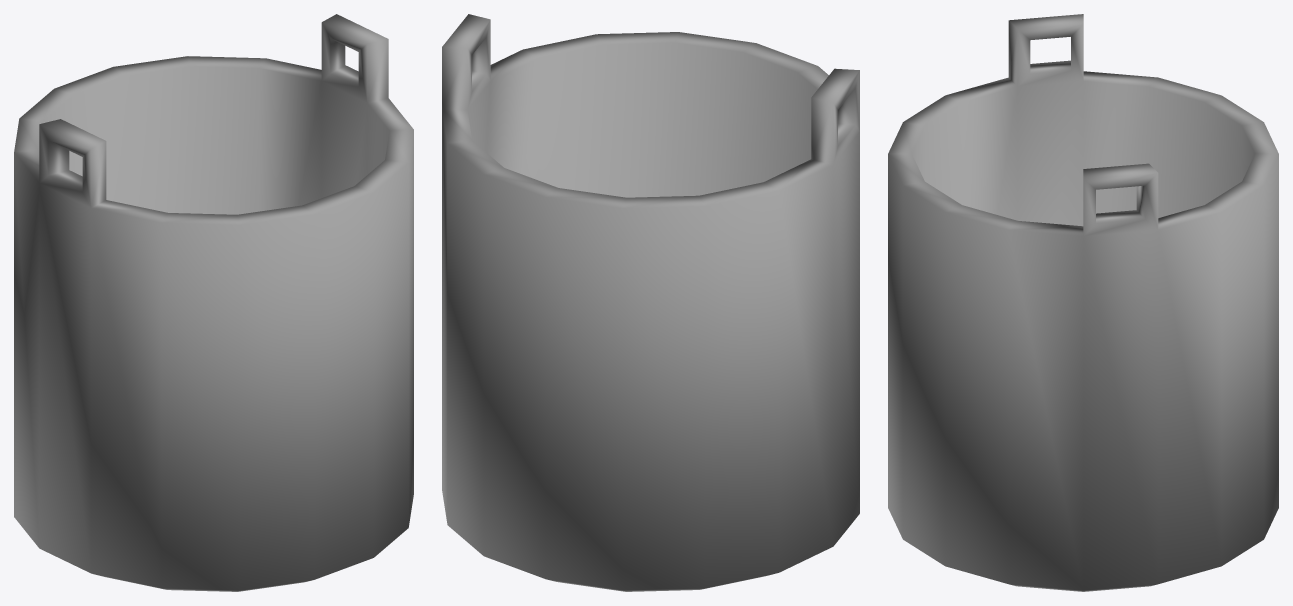
The model's file is Panci.fbx.
3 views of the same model, side by side, from view 1: azimuth 30°, elevation 25°; view 2: azimuth 150°, elevation 25°; view 3: azimuth 270°, elevation 25° (orthographic). The views are drawn at different scales.
Visible parts, largest first — view 1: Panci; view 2: Panci; view 3: Panci.
Boxes of the visible parts, x1,y1,x2,y2 form: Panci: (14,14,413,591); Panci: (442,14,859,591); Panci: (888,14,1278,591).
Bounding box in the file's own units: 48.49 × 57.71 × 48.49.
